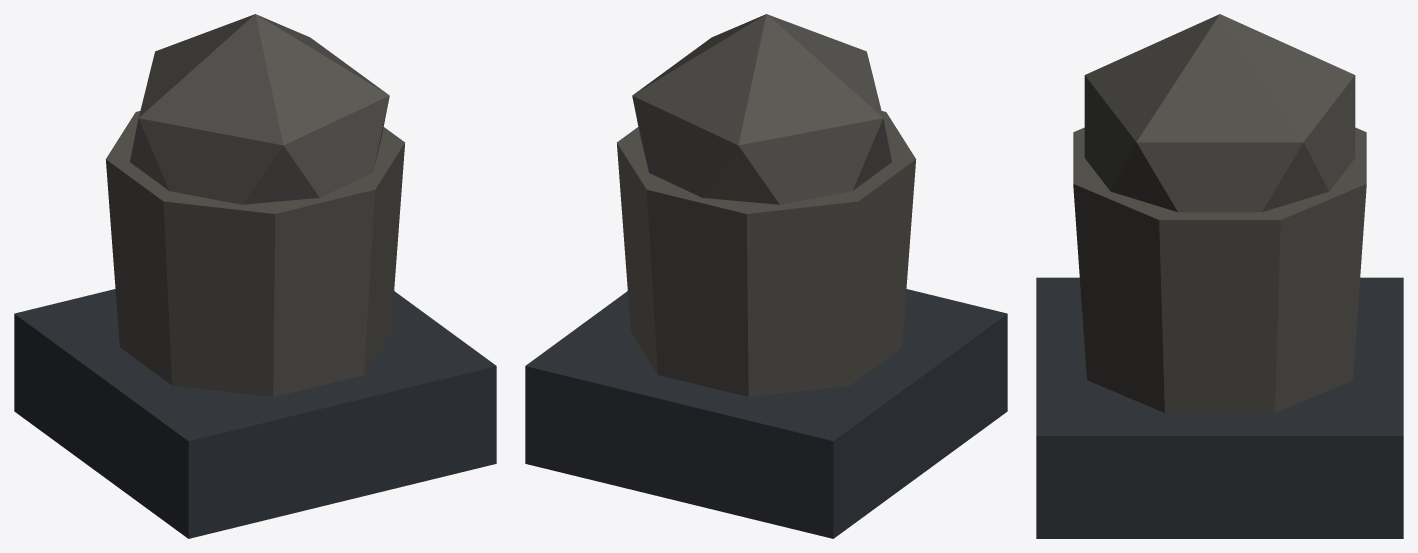
File: inf_v2_walker_lower_leg_l.fbx
3 renders of one model, left to right at view 1: azimuth 30°, elevation 25°; view 2: azimuth 150°, elevation 25°; view 3: azimuth 270°, elevation 25°, orthographic. The views are drawn at different scales.
Visible parts, largest first — view 1: inf_v2_walker_lower_leg_l; view 2: inf_v2_walker_lower_leg_l; view 3: inf_v2_walker_lower_leg_l.
Part boxes in pixels (x1=…): inf_v2_walker_lower_leg_l: x1=14, y1=14, x2=496, y2=538; inf_v2_walker_lower_leg_l: x1=525, y1=14, x2=1007, y2=538; inf_v2_walker_lower_leg_l: x1=1036, y1=14, x2=1403, y2=538.
Bounding box in the file's own units: 99 × 130 × 97.
